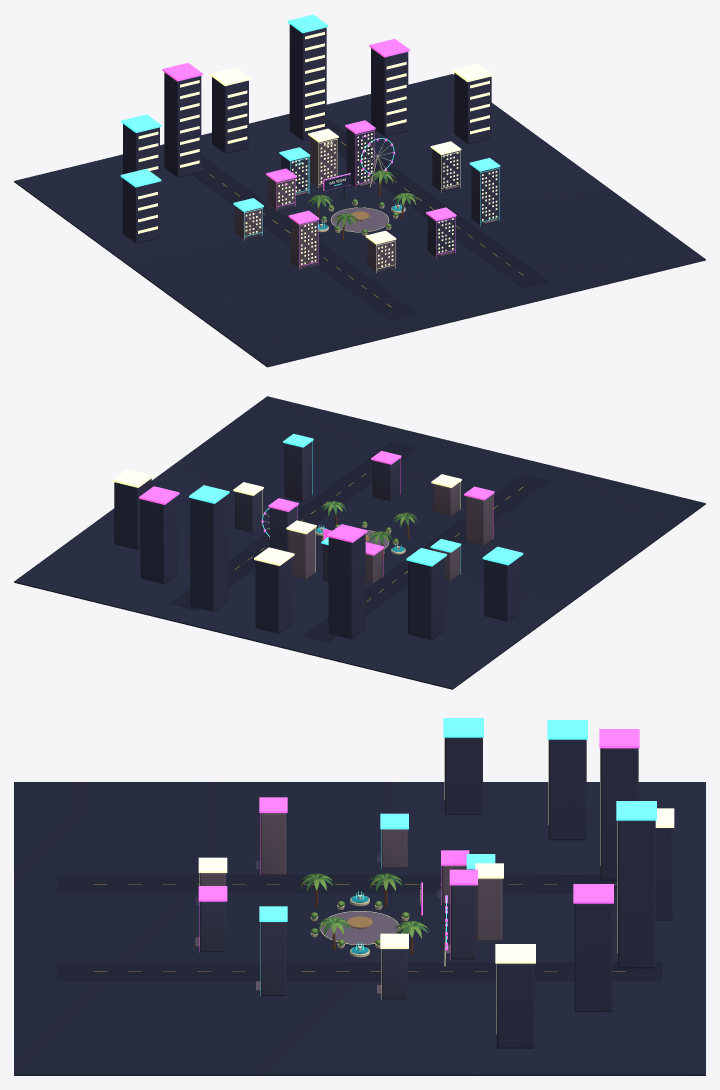
Rendered from vegas.glb.
3 views of the same model, one above another, from view 1: azimuth 30°, elevation 25°; view 2: azimuth 150°, elevation 25°; view 3: azimuth 270°, elevation 25° (orthographic). The views are drawn at different scales.
Parts seen in each view (by area): view 1: vegas; view 2: vegas; view 3: vegas.
Boxes of the visible parts, box(x1,y1,x2,y2) form: vegas: box(14, 14, 705, 367); vegas: box(14, 396, 705, 689); vegas: box(14, 718, 705, 1075).
Bounding box in the file's own units: 80 × 19.52 × 80.
